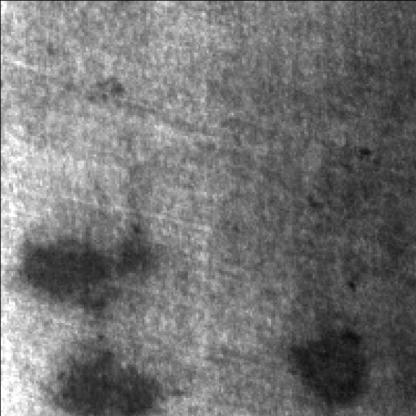patches: (16, 218, 154, 322), (289, 310, 379, 408), (52, 337, 166, 414)
